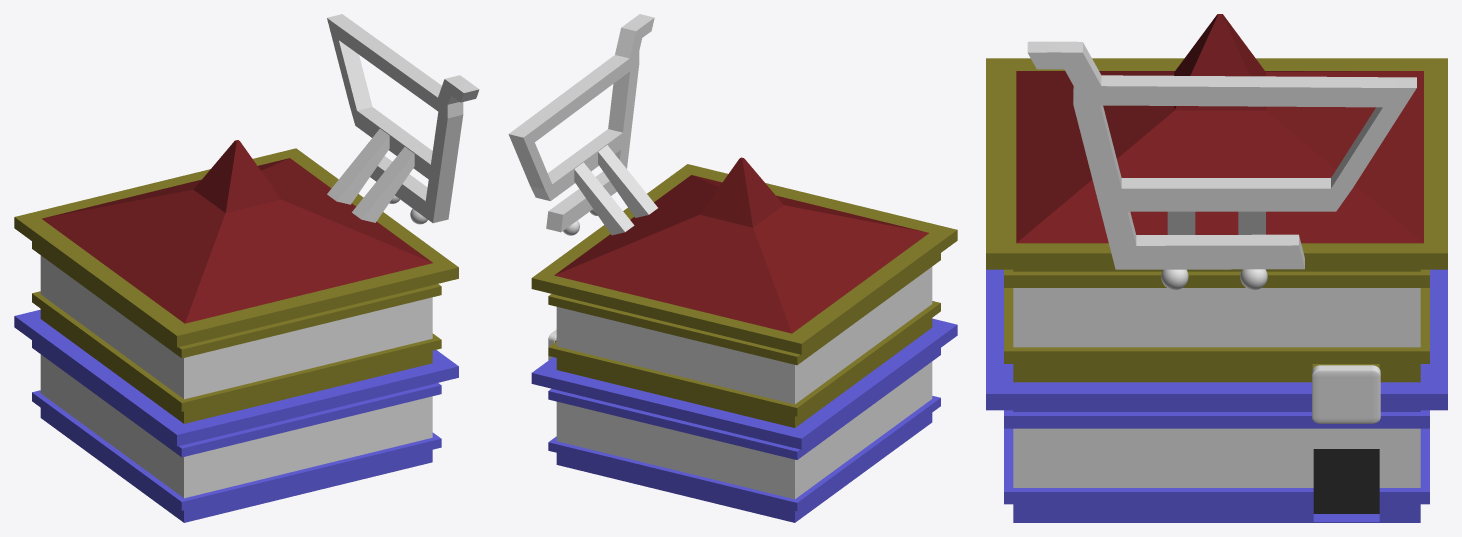
File: shop.fbx
3 renders of one model, left to right at view 1: azimuth 30°, elevation 25°; view 2: azimuth 150°, elevation 25°; view 3: azimuth 270°, elevation 25°, orthographic. The views are drawn at different scales.
Parts seen in each view (by area): view 1: Cube.002; view 2: Cube.002; view 3: Cube.002.
Part boxes in pixels (x1,y1,x2,y2): Cube.002: [14, 14, 479, 522]; Cube.002: [508, 14, 957, 522]; Cube.002: [986, 14, 1447, 522].
Size of the model in its own units: 256 by 274 by 227.
